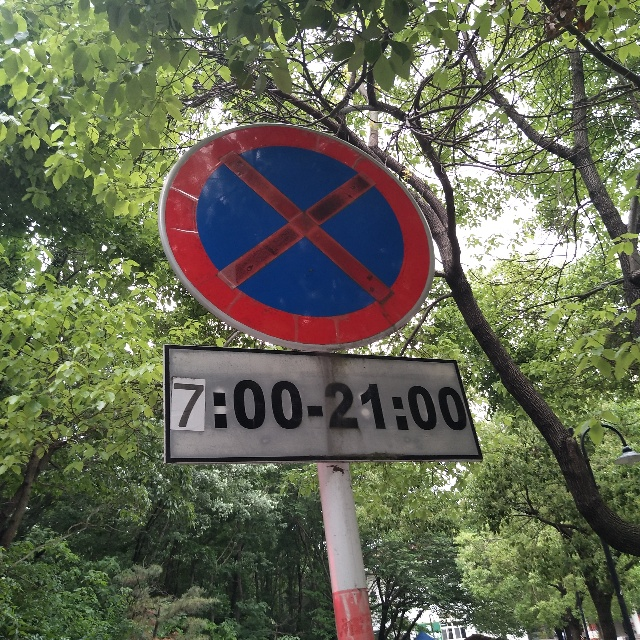stop: (186, 138, 422, 325)
